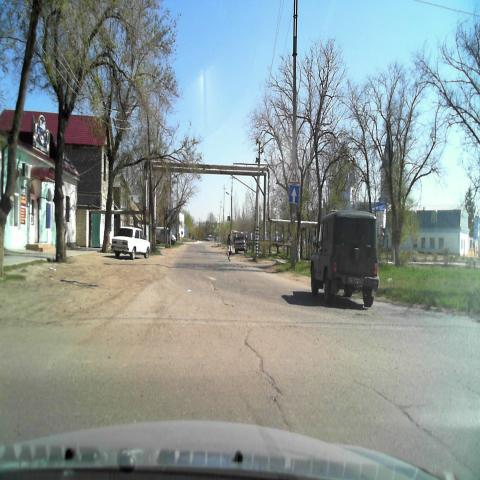1_21: (287, 166, 303, 184)
